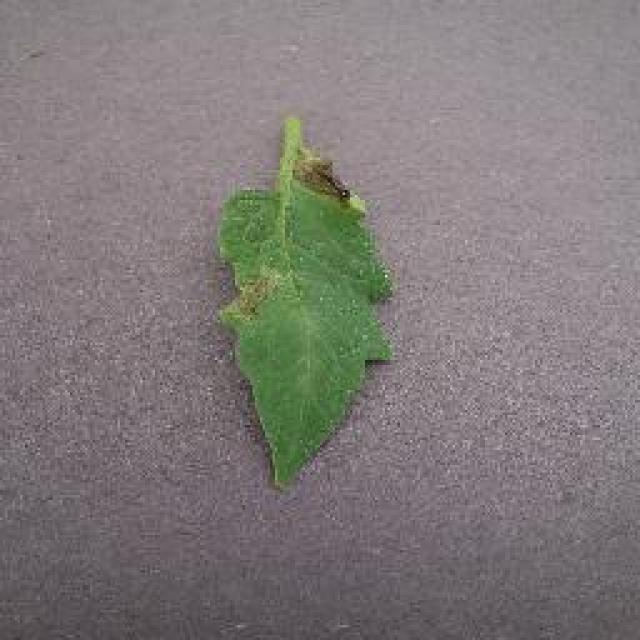Tomato___Late_blight: (220, 120, 390, 482)
